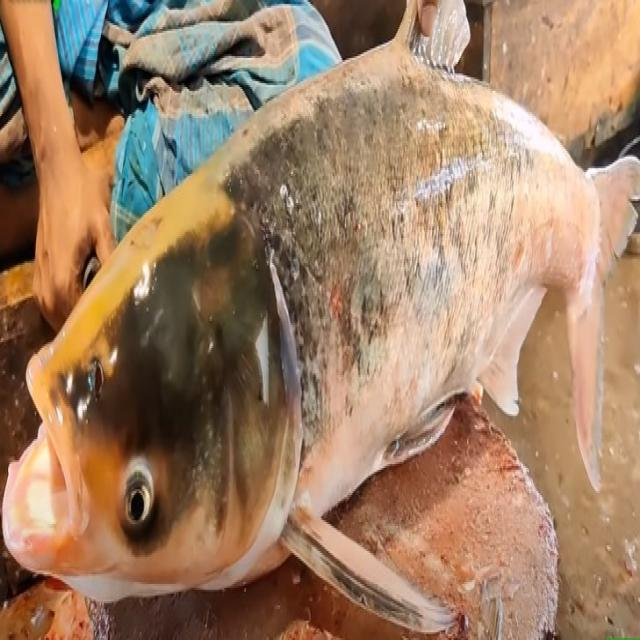Big-Head-Carp: (3, 15, 636, 614)
